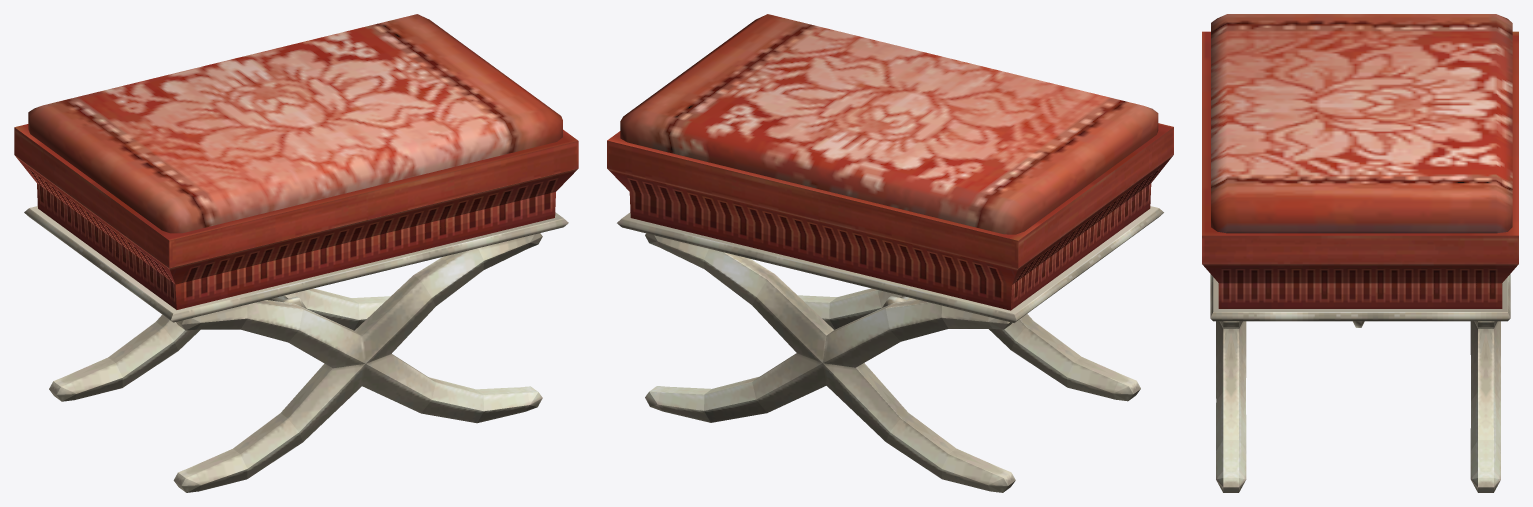
The model's file is furni_0201116_02.FBX.
The picture shows the model from 3 angles, left to right: view 1: azimuth 30°, elevation 25°; view 2: azimuth 150°, elevation 25°; view 3: azimuth 270°, elevation 25°; orthographic projection. The views are drawn at different scales.
Visible parts, largest first — view 1: furni_0201116_02; view 2: furni_0201116_02; view 3: furni_0201116_02.
Boxes of the visible parts, x1,y1,x2,y2 form: furni_0201116_02: (14, 14, 578, 492); furni_0201116_02: (607, 14, 1173, 492); furni_0201116_02: (1202, 14, 1518, 492).
Size of the model in its own units: 65.56 by 44.99 by 43.
Materials: 1 (1 with a texture image).
